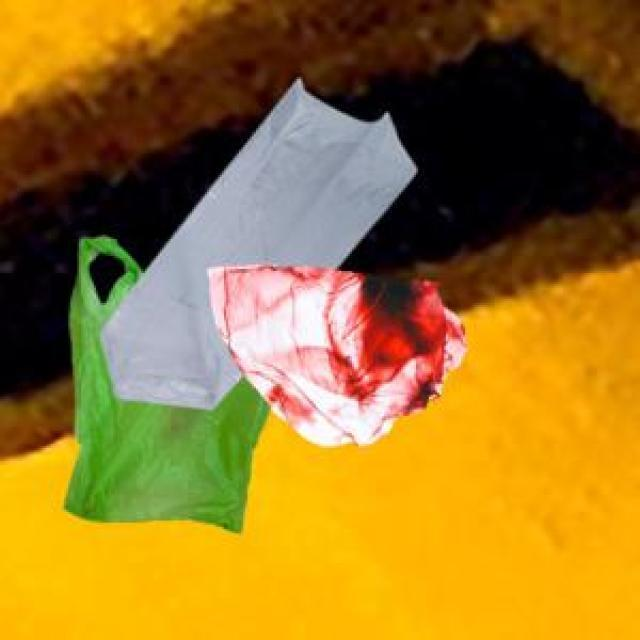waste: (69, 80, 465, 528)
